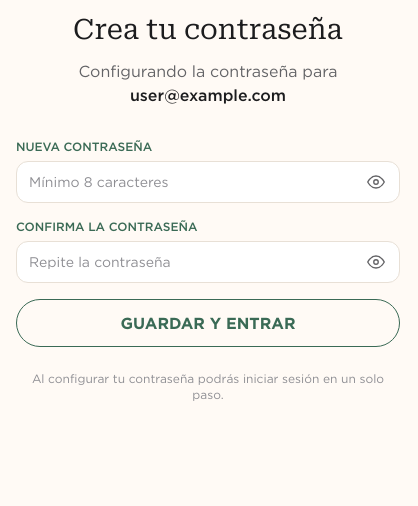
Test: SetPasswordPage › submit error handling › shows expired error message
This screenshot has width=418, height=506.
In the password field labelled "Nueva contraseña": (208, 182) [16, 161, 400, 203], type "Password1!"
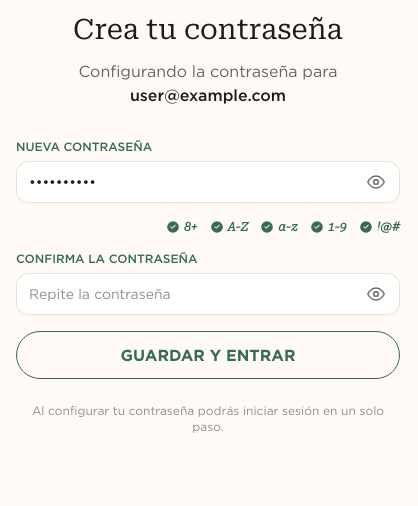
In the password field labelled "Confirma la contraseña": (208, 294) [16, 273, 400, 315], type "Password1!"
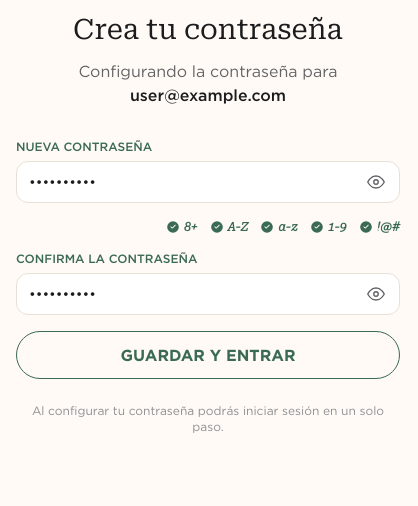
Submit the form, box [16, 139, 400, 379]
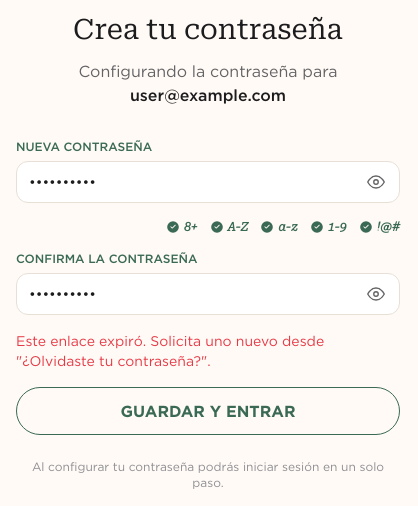
Result: the text "expir" is shown at [16, 333, 324, 368]
